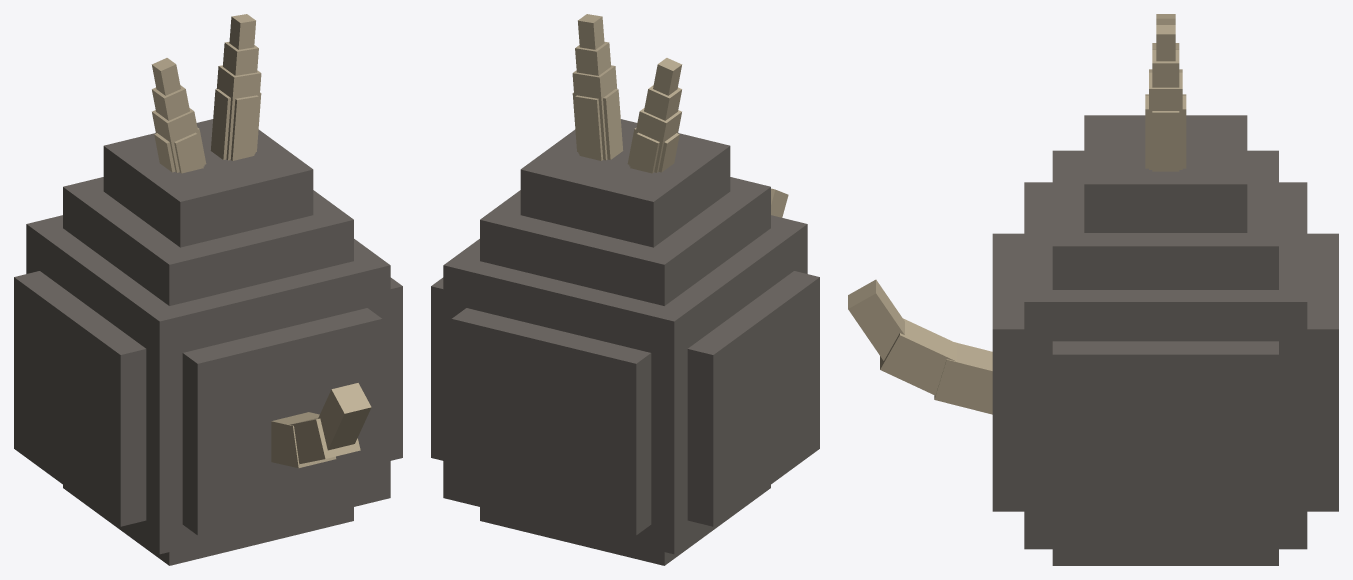
Rendered from 60.Triceratops.fbx.
The picture shows the model from 3 angles, left to right: view 1: azimuth 30°, elevation 25°; view 2: azimuth 150°, elevation 25°; view 3: azimuth 270°, elevation 25°; orthographic projection. The views are drawn at different scales.
Parts seen in each view (by area): view 1: Triceratops; view 2: Triceratops; view 3: Triceratops.
Boxes of the visible parts, x1,y1,x2,y2 form: Triceratops: (14, 14, 402, 565); Triceratops: (431, 14, 819, 565); Triceratops: (848, 14, 1338, 565).
Size of the model in its own units: 2.89 by 4.67 by 4.09.
